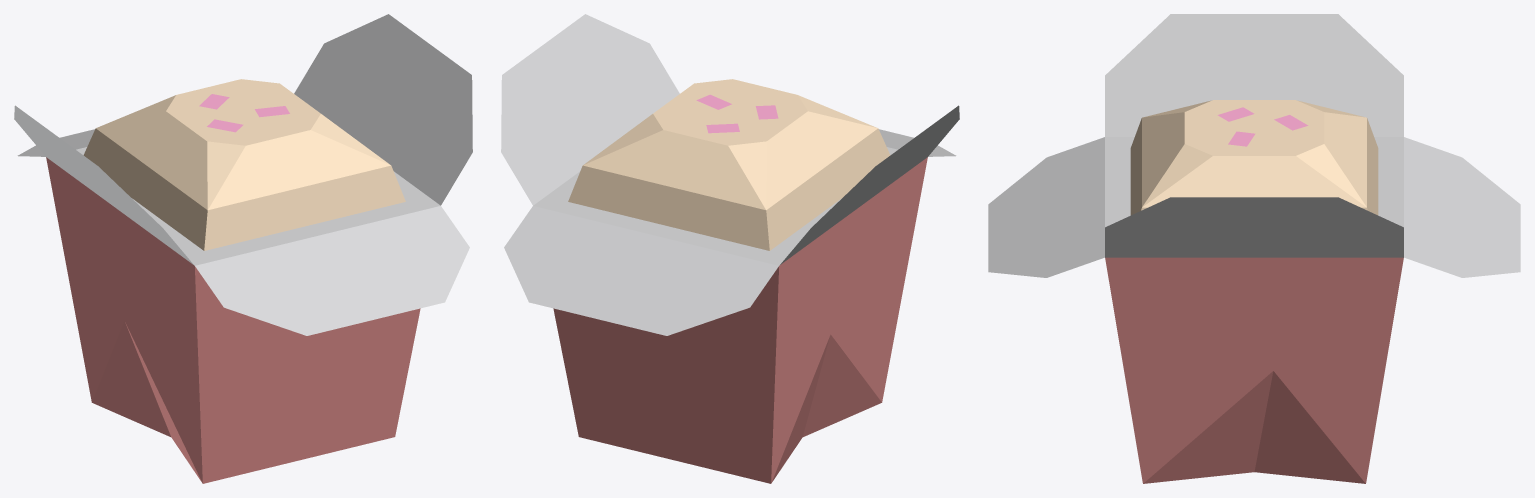
Rendered from asset.glb.
3 renders of one model, left to right at view 1: azimuth 30°, elevation 25°; view 2: azimuth 150°, elevation 25°; view 3: azimuth 270°, elevation 25°, orthographic.
Visible parts, largest first — view 1: chinese; view 2: chinese; view 3: chinese.
Boxes of the visible parts, x1,y1,x2,y2 form: chinese: [14, 14, 472, 483]; chinese: [501, 14, 959, 483]; chinese: [988, 14, 1520, 483].
Size of the model in its own units: 0.4538 by 0.3826 by 0.5575.
